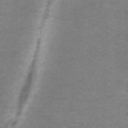finishing roll printing: (16, 39, 42, 117), (37, 0, 54, 29)
